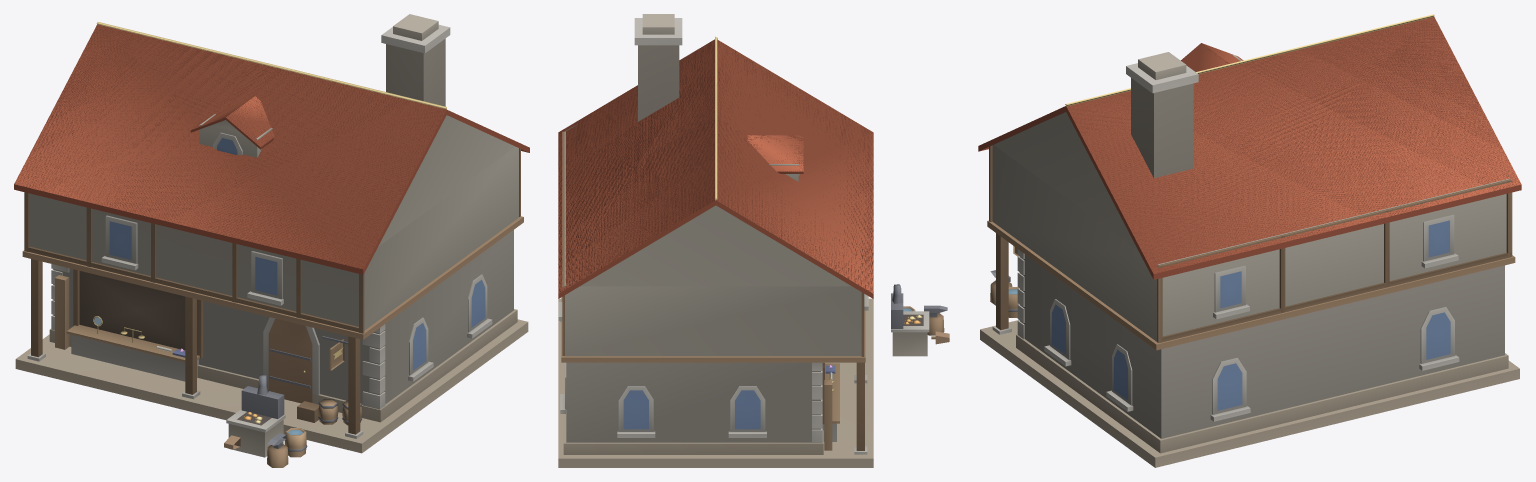
Rendered from smith_lite.glb.
The picture shows the model from 3 angles, left to right: view 1: azimuth 30°, elevation 25°; view 2: azimuth 150°, elevation 25°; view 3: azimuth 270°, elevation 25°; orthographic projection. The views are drawn at different scales.
Parts seen in each view (by area): view 1: Smith_stone, Smith_roof, Smith_props; view 2: Smith_stone, Smith_roof, Smith_props; view 3: Smith_stone, Smith_roof, Smith_props.
Boxes of the visible parts, bbox=[...] form: Smith_stone: bbox=[15, 14, 528, 457]; Smith_roof: bbox=[14, 24, 529, 274]; Smith_props: bbox=[22, 22, 523, 467]; Smith_stone: bbox=[558, 14, 929, 467]; Smith_roof: bbox=[558, 39, 873, 298]; Smith_props: bbox=[561, 36, 949, 450]; Smith_stone: bbox=[980, 52, 1519, 467]; Smith_roof: bbox=[978, 17, 1521, 279]; Smith_props: bbox=[987, 14, 1515, 410].
Size of the model in its own units: 14.57 by 10.9 by 15.34.
